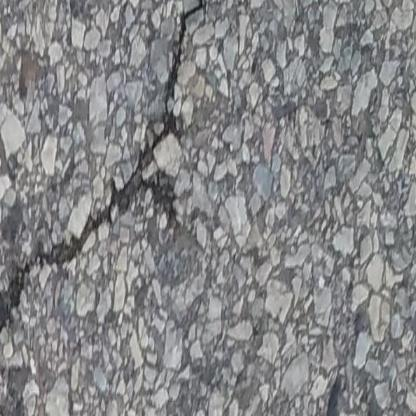Cracks: (0, 19, 206, 352)
